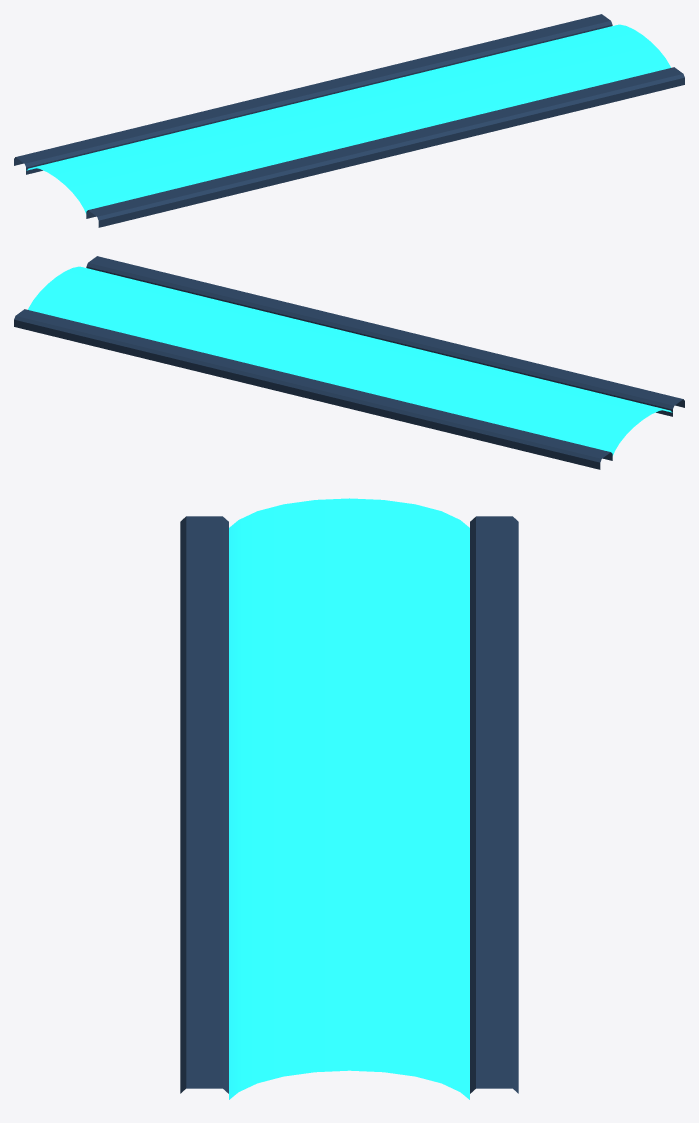
Rendered from Light_Trim_01_Straight_40.glb.
The picture shows the model from 3 angles, top to bottom: view 1: azimuth 30°, elevation 25°; view 2: azimuth 150°, elevation 25°; view 3: azimuth 270°, elevation 25°; orthographic projection. The views are drawn at different scales.
Visible parts, largest first — view 1: Light_Trim_01_Straight_40.001; view 2: Light_Trim_01_Straight_40.001; view 3: Light_Trim_01_Straight_40.001.
Part boxes in pixels (left/top/right/bottom): Light_Trim_01_Straight_40.001: left=14, top=14, right=684, bottom=227; Light_Trim_01_Straight_40.001: left=14, top=256, right=684, bottom=469; Light_Trim_01_Straight_40.001: left=180, top=498, right=518, bottom=1099.
Size of the model in its own units: 0.4 by 0.0123 by 0.1.
